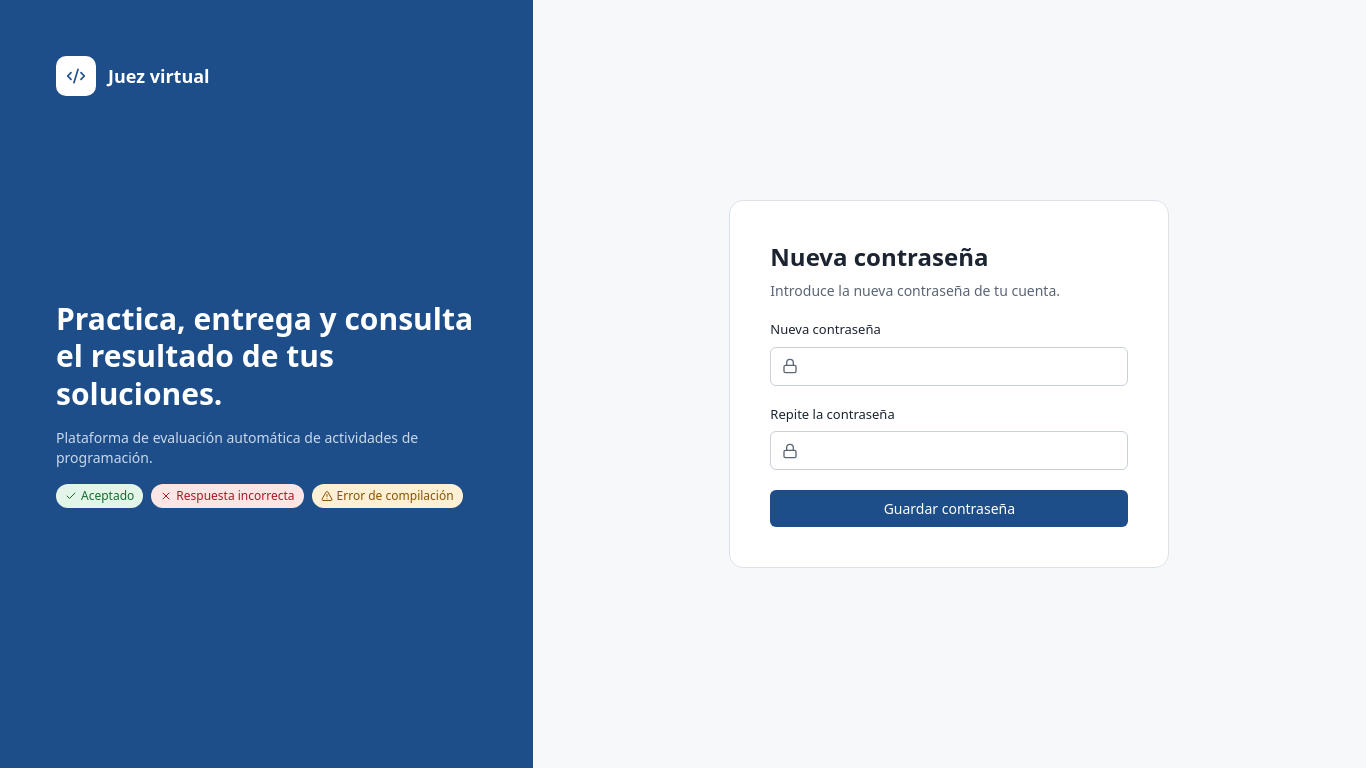
Scenario: restablecimiento de contraseña › un enlace caducado o usado se indica al guardar
Type "nueva-contraseña" into the password field labelled "Nueva contraseña". click: coordinates (949, 366)
box: top-left (770, 346), bottom-right (1128, 386)
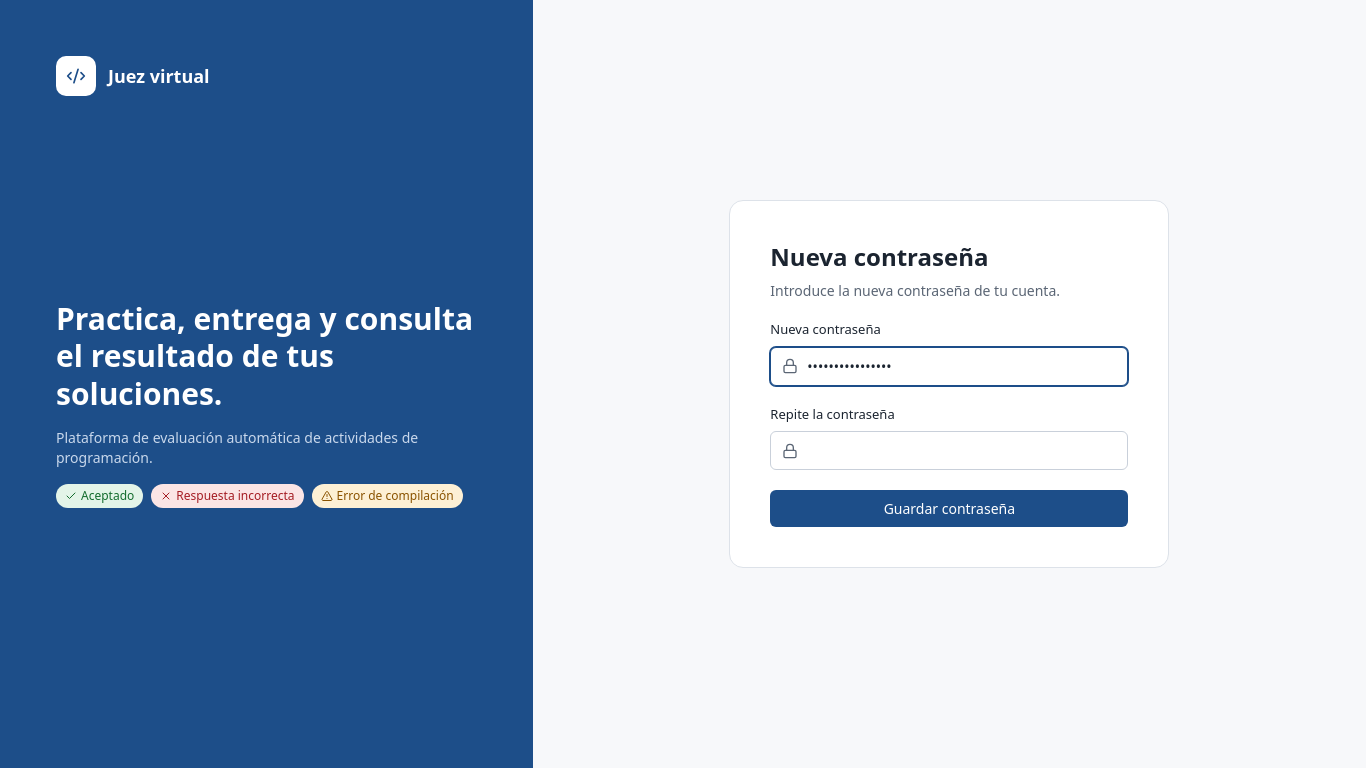
Type "nueva-contraseña" into the password field labelled "Repite la contraseña". click: coordinates (949, 451)
box: top-left (770, 431), bottom-right (1128, 470)
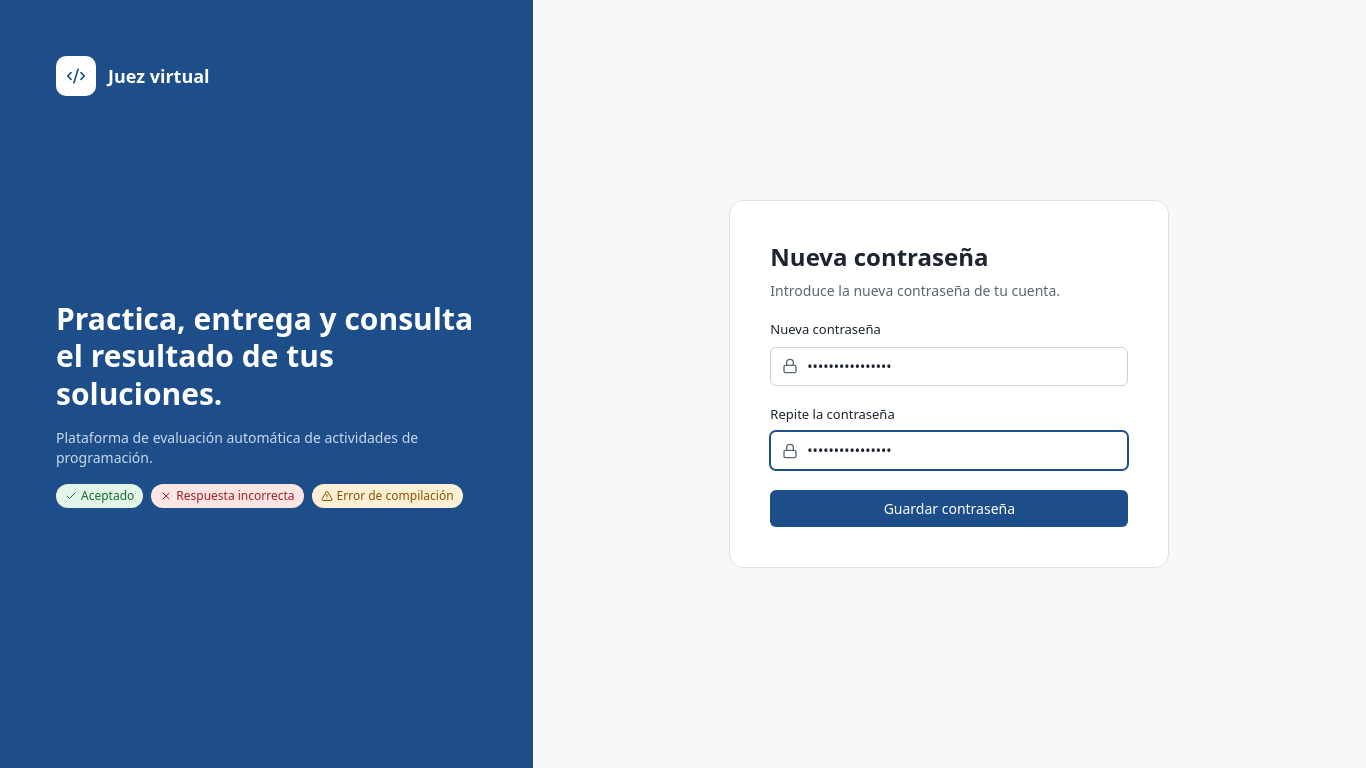
Click the button "Guardar contraseña". click: coordinates (949, 509)
box: top-left (770, 490), bottom-right (1128, 527)
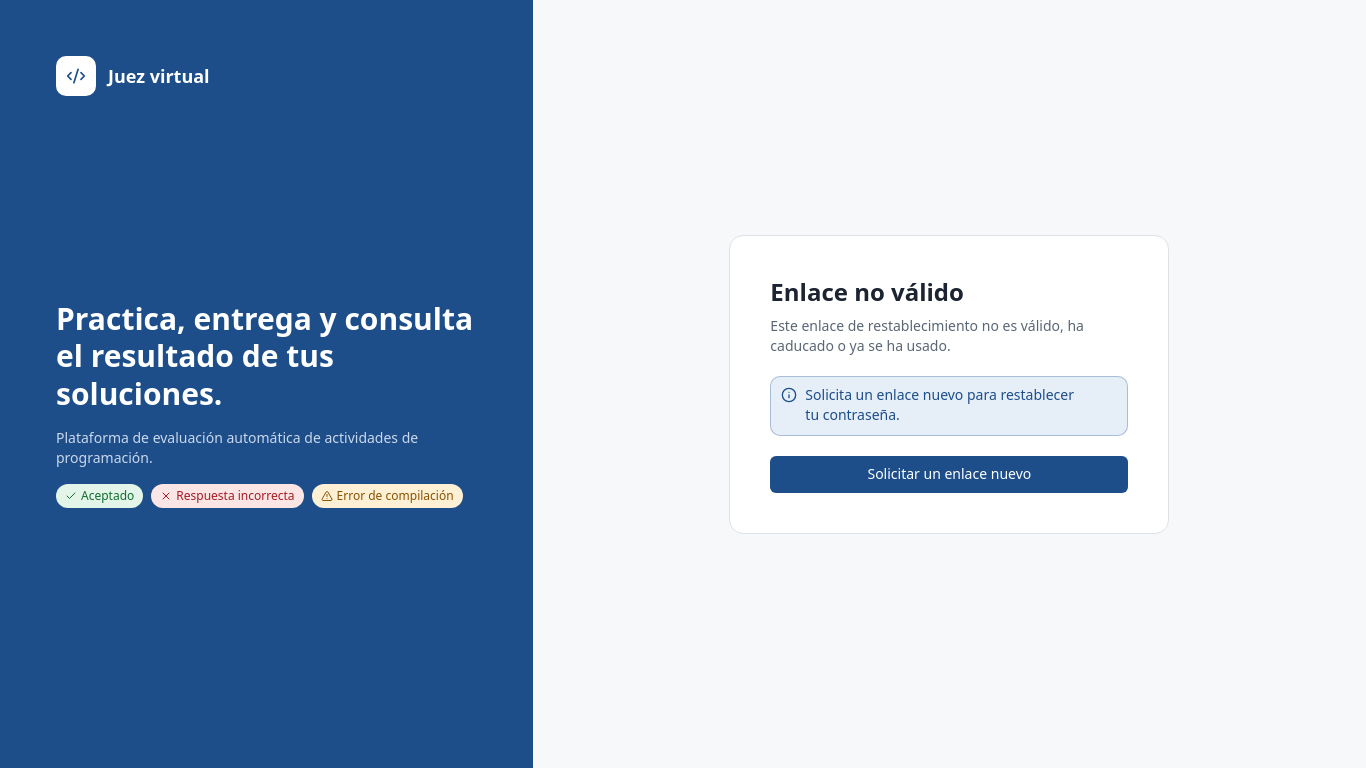
Expected: the heading "Enlace no válido" is shown, top-left (770, 274), bottom-right (964, 308)
Expected: the link "Solicitar un enlace nuevo" is shown, top-left (770, 456), bottom-right (1128, 492)
